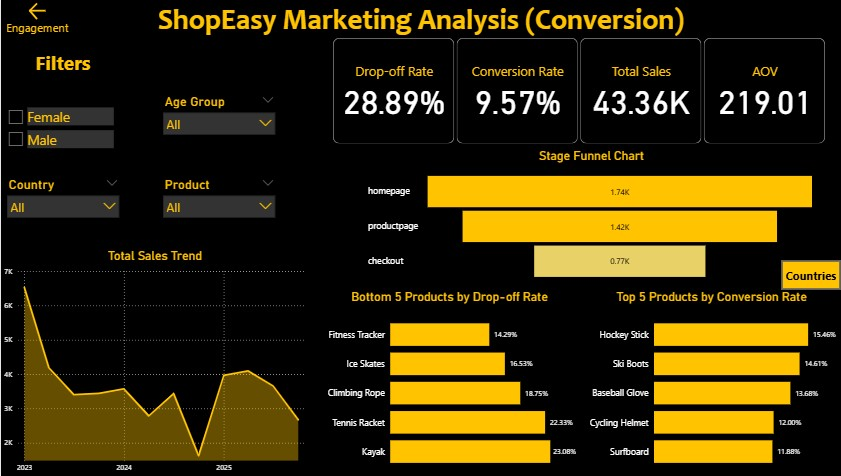

What the dashboard file says about the page in this screenshot:
{"tool":"powerbi","page":{"name":"Conversion","canvas":[1400,800],"ordinal":8},"visuals":[{"type":"textbox","box":[0,0,1400,81.7],"z":0},{"type":"cardVisual","fields":{"Data":["Measures Table.Drop-offs Rate","Measures Table.Conversion Rate","Measures Table.Total Price","Measures Table.AOV"]},"box":[548.3,61.7,830,186.7],"z":1000},{"type":"funnel","title":"Stage Funnel Chart","fields":{"Category":["customer_journey.formatted_stage"],"Y":["CountNonNull(customer_journey.formatted_stage)"]},"box":[606.7,251.7,755,235],"z":2000},{"type":"textbox","box":[0,80.6,206.7,61.7],"z":4000},{"type":"slicer","fields":{"Values":["customers.Gender"]},"box":[0,174,193.3,96.7],"z":5000},{"type":"slicer","fields":{"Values":["customers.Age Group"]},"box":[260,155,206.7,125],"z":6000},{"type":"slicer","fields":{"Values":["geography.Country"]},"box":[0,293.3,206.7,125],"z":7000},{"type":"slicer","fields":{"Values":["products.ProductName"]},"box":[260,293.3,206.7,125],"z":8000},{"type":"barChart","title":"Top 5 Products by Conversion Rate","fields":{"Y":["Measures Table.Conversion Rate"],"Category":["products.ProductName"]},"box":[968,486,432,314],"z":9000},{"type":"actionButton","box":[0,0,121.7,68.3],"z":10000},{"type":"actionButton","title":"Countries Button","box":[1300,436.7,100,50],"z":12000},{"type":"barChart","title":"Bottom 5 Products by Drop-off Rate","fields":{"Category":["products.ProductName"],"Y":["Measures Table.Drop-off Rate"]},"box":[532,486,432,314],"z":13000},{"type":"areaChart","title":"Total Sales Trend","fields":{"Y":["Measures Table.Total Sales"],"Category":["customer_journey.VisitDate.Variation.Date Hierarchy.Year","customer_journey.VisitDate.Variation.Date Hierarchy.Quarter"]},"box":[0,418.3,513.3,381.7],"z":15000}]}

Visuals, with their boxes in screenshot pixels (x1, y1, x2, y2), scaled from the page's 1400x800 canvas onto the 841x476 screenshot:
textbox: {"left": 0, "top": 0, "right": 840, "bottom": 49}
cardVisual - Measures Table.Drop-offs Rate x Measures Table.Conversion Rate: {"left": 329, "top": 37, "right": 828, "bottom": 148}
"Stage Funnel Chart" funnel: {"left": 364, "top": 150, "right": 818, "bottom": 290}
textbox: {"left": 0, "top": 48, "right": 124, "bottom": 85}
slicer - customers.Gender: {"left": 0, "top": 104, "right": 116, "bottom": 161}
slicer - customers.Age Group: {"left": 156, "top": 92, "right": 280, "bottom": 167}
slicer - geography.Country: {"left": 0, "top": 175, "right": 124, "bottom": 249}
slicer - products.ProductName: {"left": 156, "top": 175, "right": 280, "bottom": 249}
"Top 5 Products by Conversion Rate" barChart: {"left": 581, "top": 289, "right": 840, "bottom": 475}
actionButton: {"left": 0, "top": 0, "right": 73, "bottom": 41}
"Countries Button" actionButton: {"left": 781, "top": 260, "right": 840, "bottom": 290}
"Bottom 5 Products by Drop-off Rate" barChart: {"left": 320, "top": 289, "right": 579, "bottom": 475}
"Total Sales Trend" areaChart: {"left": 0, "top": 249, "right": 308, "bottom": 475}
